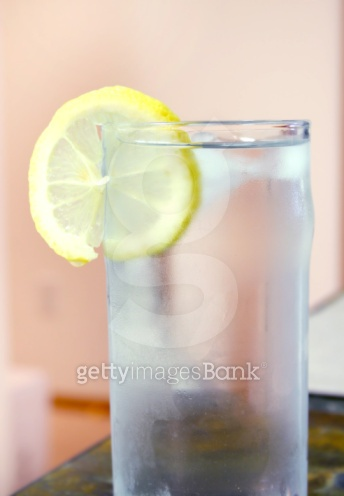glass of water: (97, 116, 311, 495)
